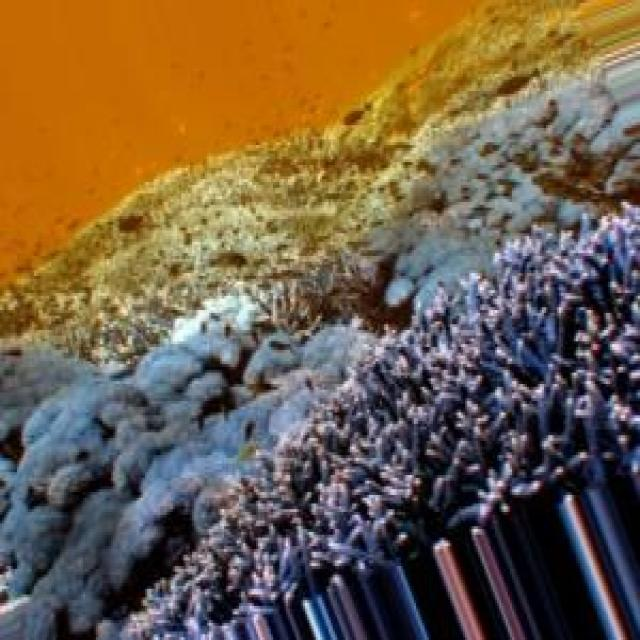Healthy: (120, 210, 640, 630), (1, 322, 393, 632), (369, 52, 640, 314)
